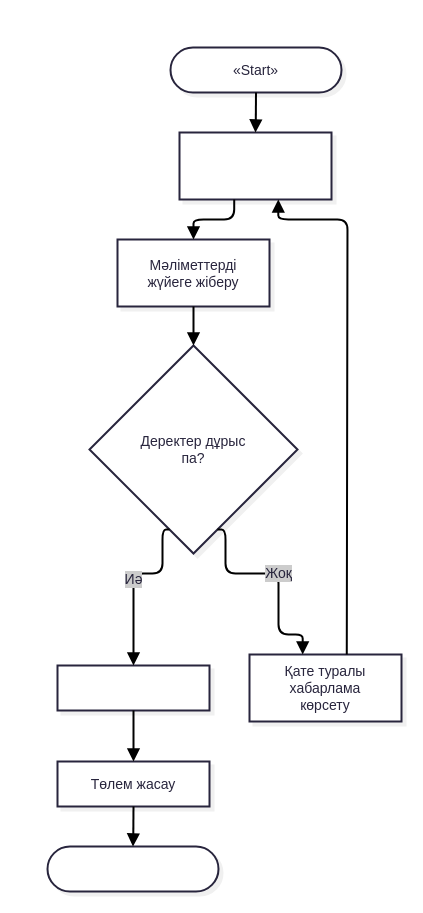
Some shapes in this 423 by 913 pixel diagram are drawn without their labels. Each missing label, with the centre of its shape:
"«End»" belongs at [134,870].
"Өтінім формасын толтыру" belongs at [257,167].
"Өтінімді тіркеу" belongs at [135,689].
